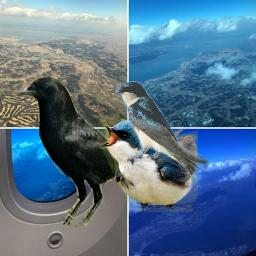Crow: (11, 76, 172, 228)
Swallow: (97, 117, 198, 212), (115, 81, 209, 172)
